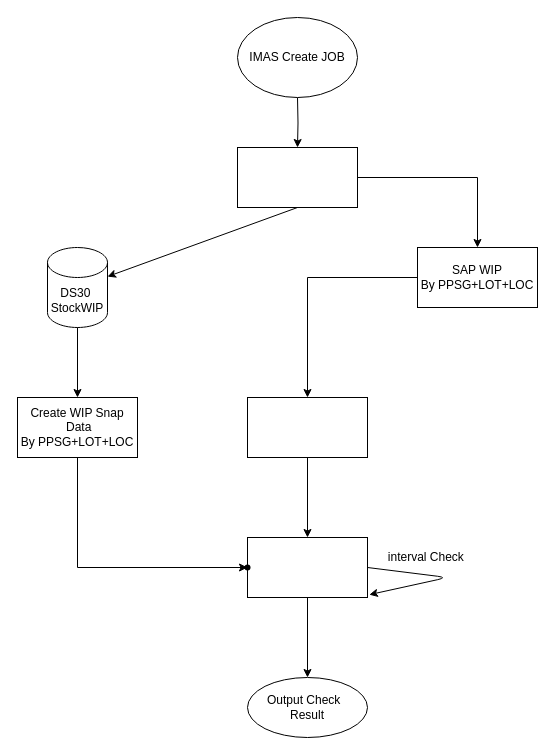
The diagram is 555 pixels wide and 755 high, and some of its shapes have lost their labels. The shapes that lost their labels are listed below. From the top down, each one's box as (x1, y1, x2, y2) in pixels, then its label:
(236, 146, 358, 208): Inventory Job
(246, 396, 368, 458): SAP WIP/WM Data
(246, 536, 368, 598): Summary Inventory Data
